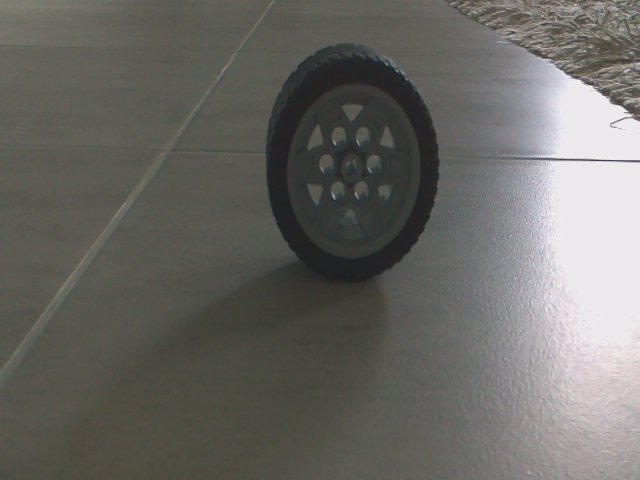Rad: (260, 40, 446, 287)
